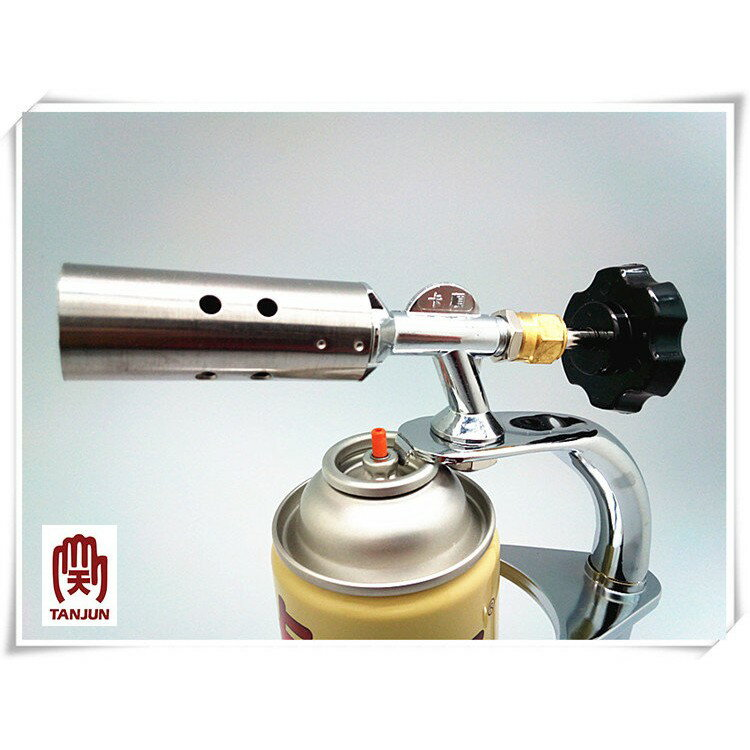gastorch: (48, 252, 677, 641)
